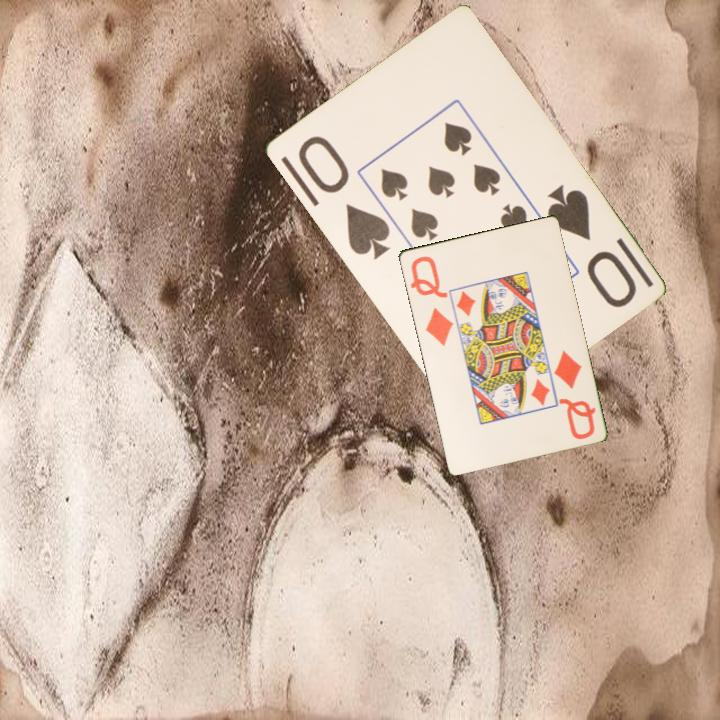10s: (293, 132, 393, 263), (542, 180, 639, 311)
Qd: (407, 252, 456, 349), (550, 346, 598, 443)
